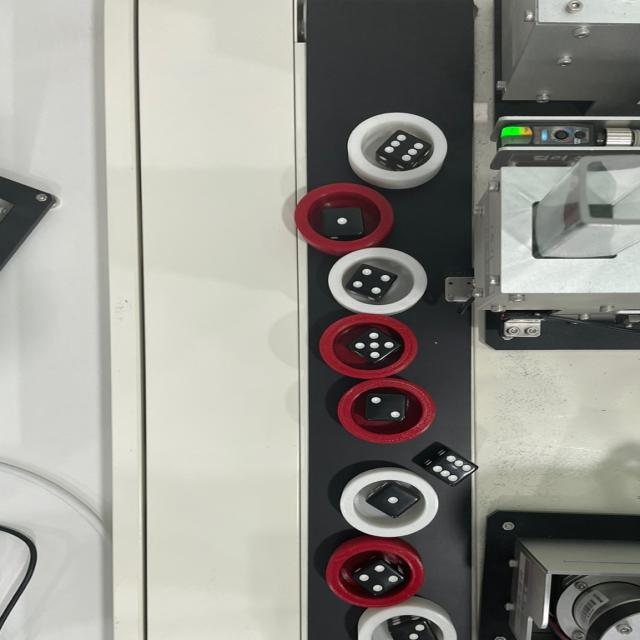DICE1: (374, 491, 412, 515), (326, 211, 359, 233)
DICE2: (366, 396, 407, 422)
DICE3: (399, 624, 431, 640)
DICE4: (358, 566, 402, 594), (351, 269, 392, 295)
DICE5: (354, 335, 397, 361)
DICE6: (430, 456, 479, 485), (384, 134, 424, 162)
RedChip: (327, 544, 428, 607), (294, 185, 393, 248), (320, 316, 419, 378), (341, 380, 433, 442)
WhiteChip: (347, 112, 446, 184), (330, 248, 428, 312), (342, 471, 437, 536), (357, 608, 458, 640)
